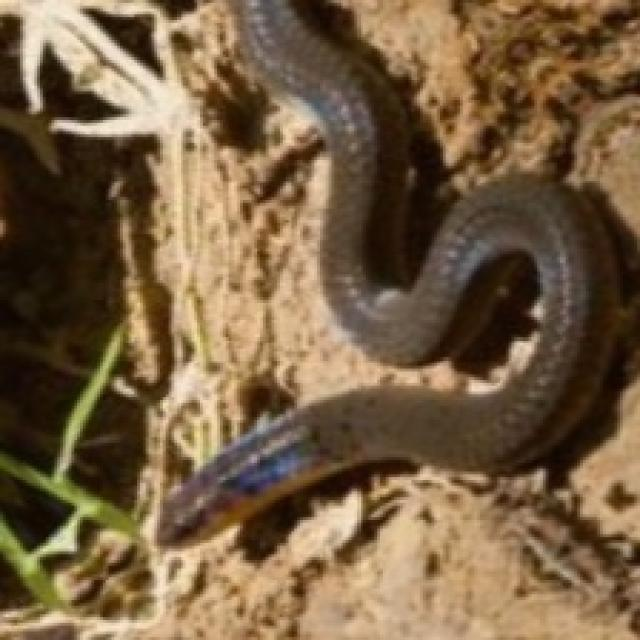gervais worm snake: (157, 0, 637, 543)
